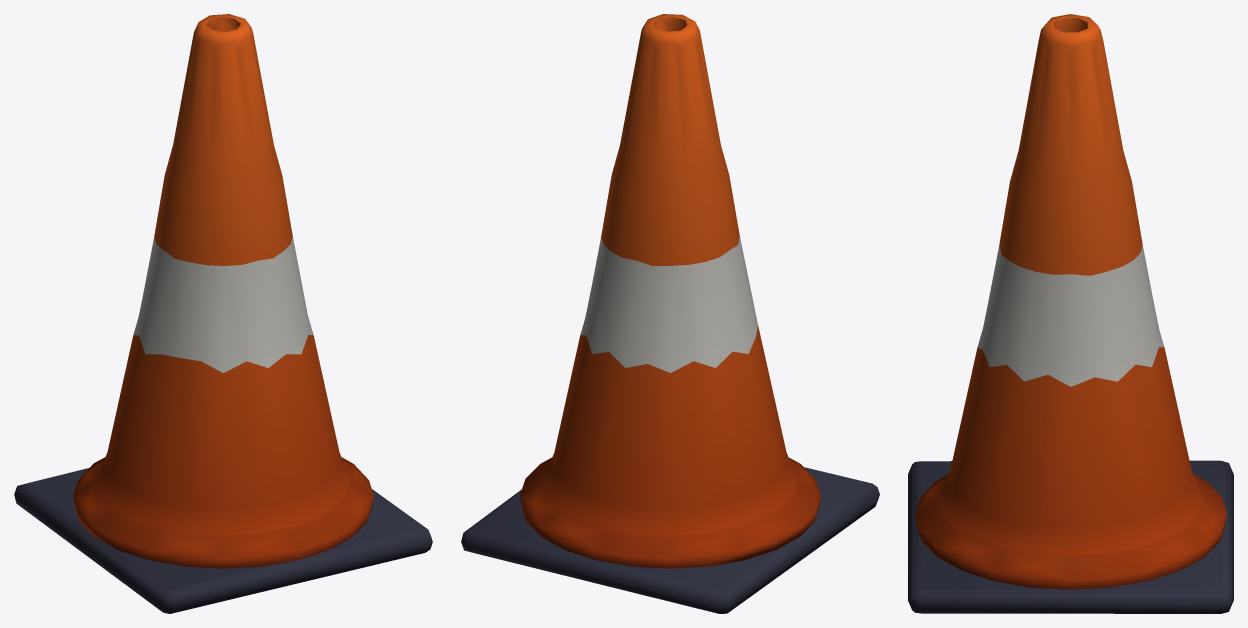
3 renders of one model, left to right at view 1: azimuth 30°, elevation 25°; view 2: azimuth 150°, elevation 25°; view 3: azimuth 270°, elevation 25°, orthographic. The views are drawn at different scales.
Visible parts, largest first — view 1: cone; view 2: cone; view 3: cone.
Part boxes in pixels (x1,y1,x2,y2): cone: (14,14,432,613); cone: (461,14,879,613); cone: (908,14,1233,613).
Bounding box in the file's own units: 0.4004 × 0.712 × 0.4004.
